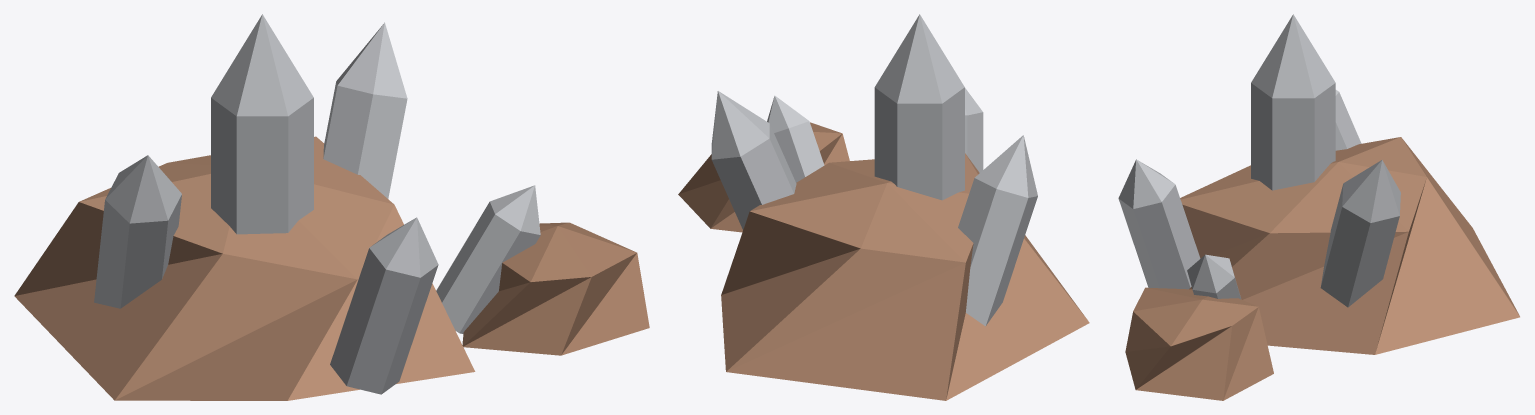
File: aluminum.glb
The picture shows the model from 3 angles, left to right: view 1: azimuth 30°, elevation 25°; view 2: azimuth 150°, elevation 25°; view 3: azimuth 270°, elevation 25°; orthographic projection. The views are drawn at different scales.
Visible parts, largest first — view 1: LOD0; view 2: LOD0; view 3: LOD0.
Boxes of the visible parts, x1=… form: LOD0: x1=14, y1=14, x2=649, y2=400; LOD0: x1=678, y1=14, x2=1089, y2=400; LOD0: x1=1118, y1=14, x2=1519, y2=400.
Size of what is drawn, in the model's own units: 0.6586 by 0.422 by 0.5696.
